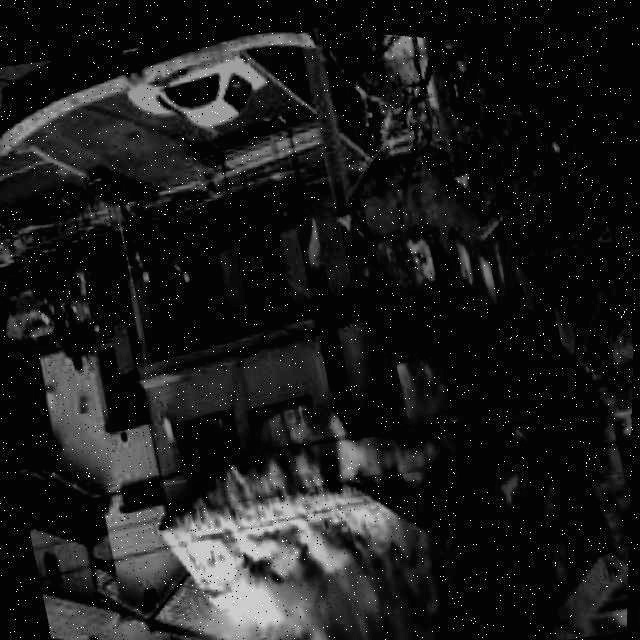Fire: (276, 154, 574, 553), (249, 524, 397, 640), (181, 383, 318, 474)
Smoke: (143, 374, 596, 640)
